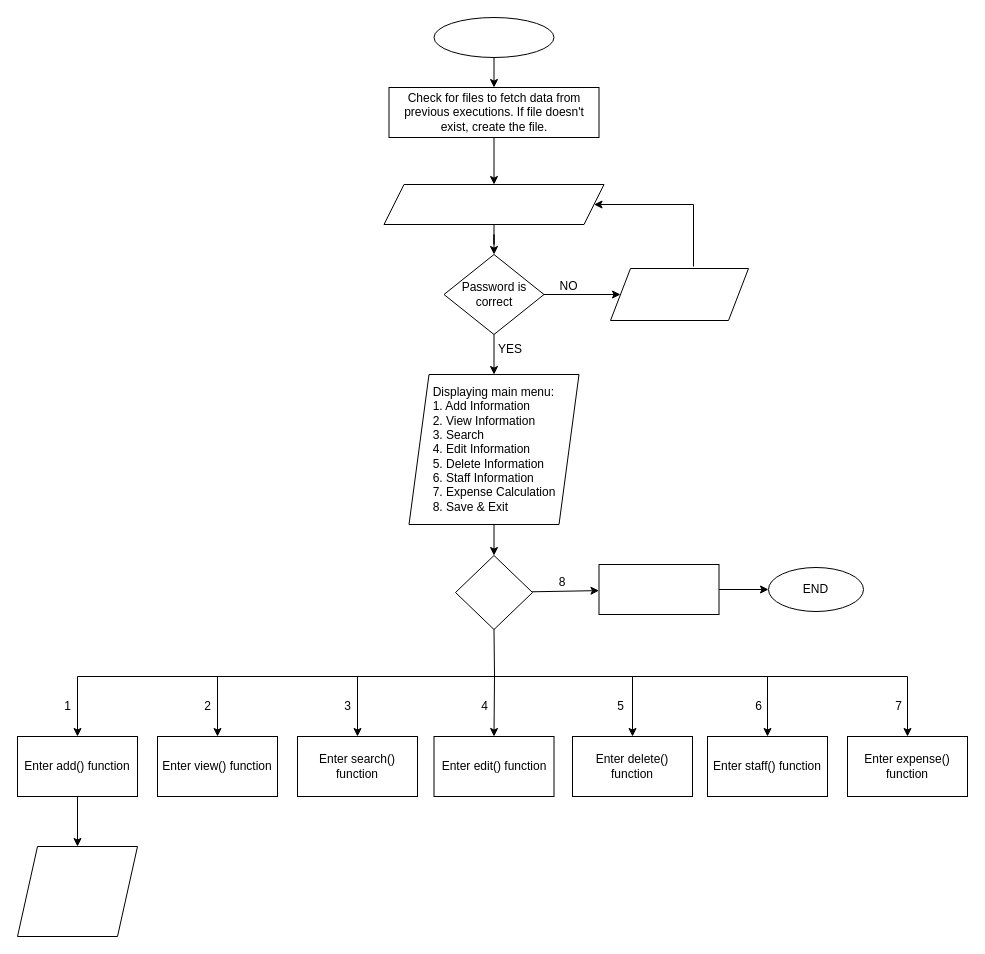
Image size: 985x954. Some labels were removed from this diagram. Each missing label, with the centre of its shape:
Display that it is Wrong Password: [679,294]
Display the No. of existing records and ask to enter No. of new records: [77,891]
Prompting the user to Enter administrator password: [493,204]
Read user input choice: [493,592]
Save the data of current execution in a file "records.txt": [658,589]
START: [493,37]
